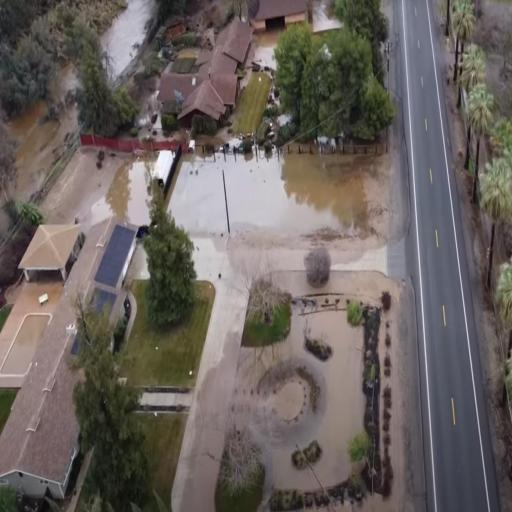flood: (7, 64, 154, 229), (169, 152, 384, 234), (101, 0, 155, 79)
house: (0, 217, 144, 500), (176, 12, 256, 149), (248, 0, 312, 35)
